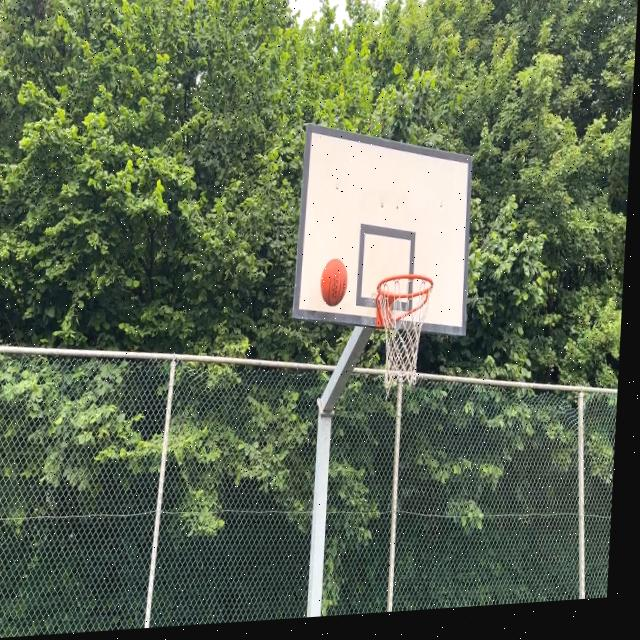Basketball: (319, 259, 348, 307)
